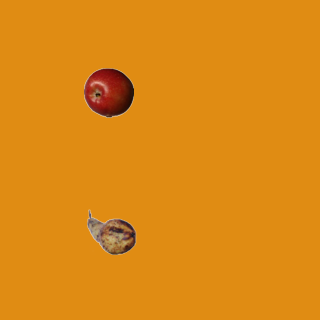Apple Braeburn: (83, 67, 133, 117)
Pear Abate: (86, 207, 136, 257)
